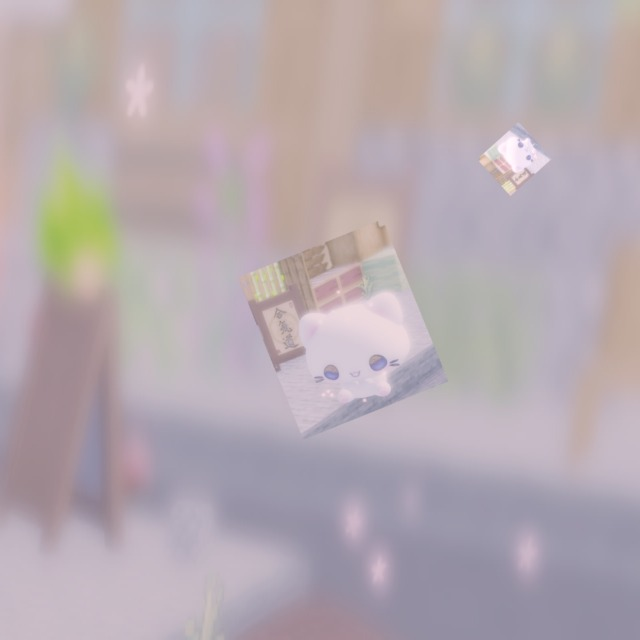urso_branco: (237, 219, 449, 440), (477, 122, 552, 196)
